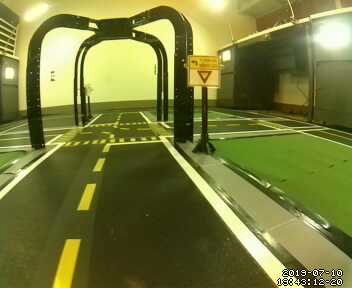Turn Yield: (187, 54, 221, 88)
